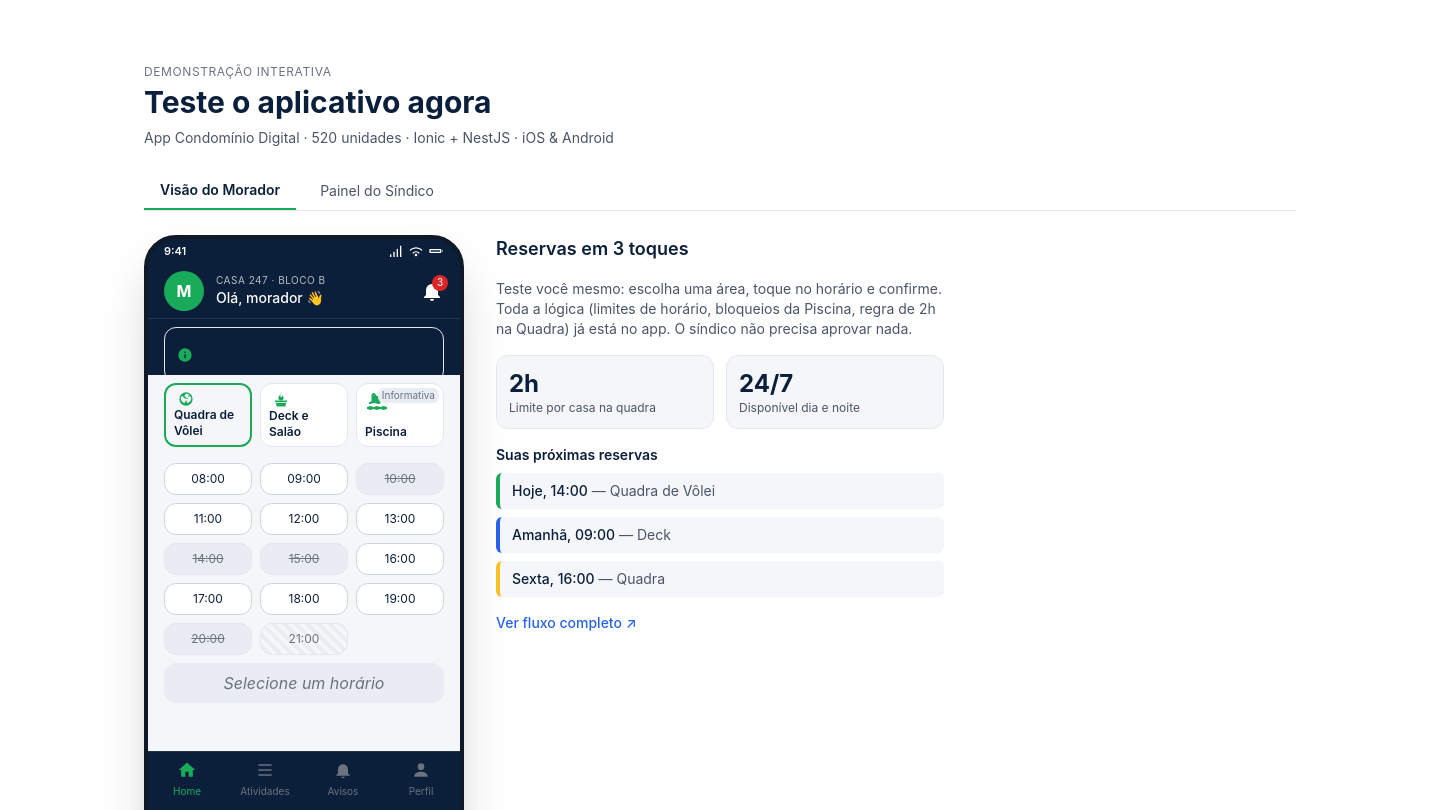
Test: DemoMorador — fluxo de reserva › confirmar uma reserva marca o slot como ocupado (disabled + line-through)
Step 1. Click the button "09:00" → x=304, y=479, box top-left (260, 463), bottom-right (348, 495)
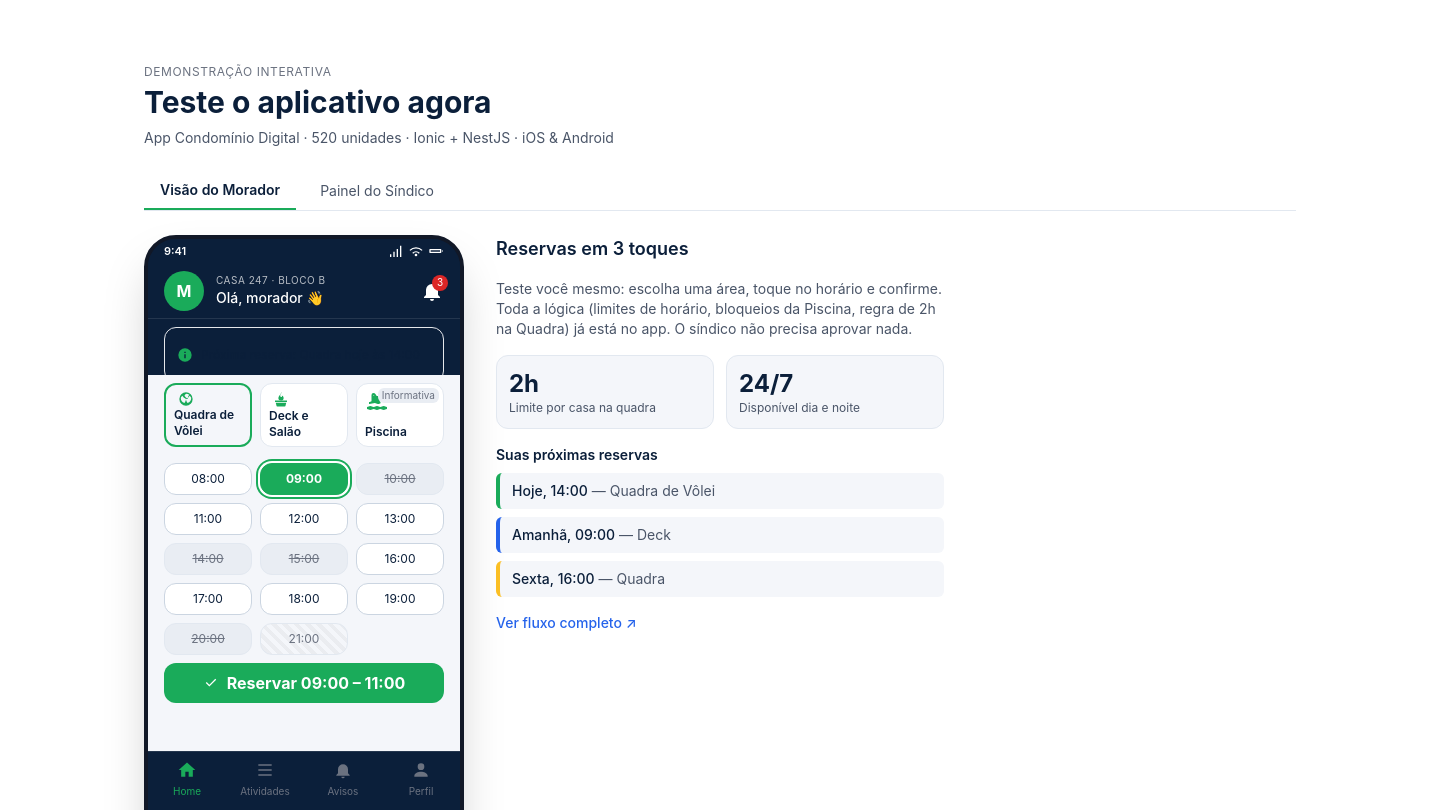
Step 2. Click the button "Reservar 09:00 – 11:00" → x=304, y=683, box top-left (164, 663), bottom-right (444, 703)
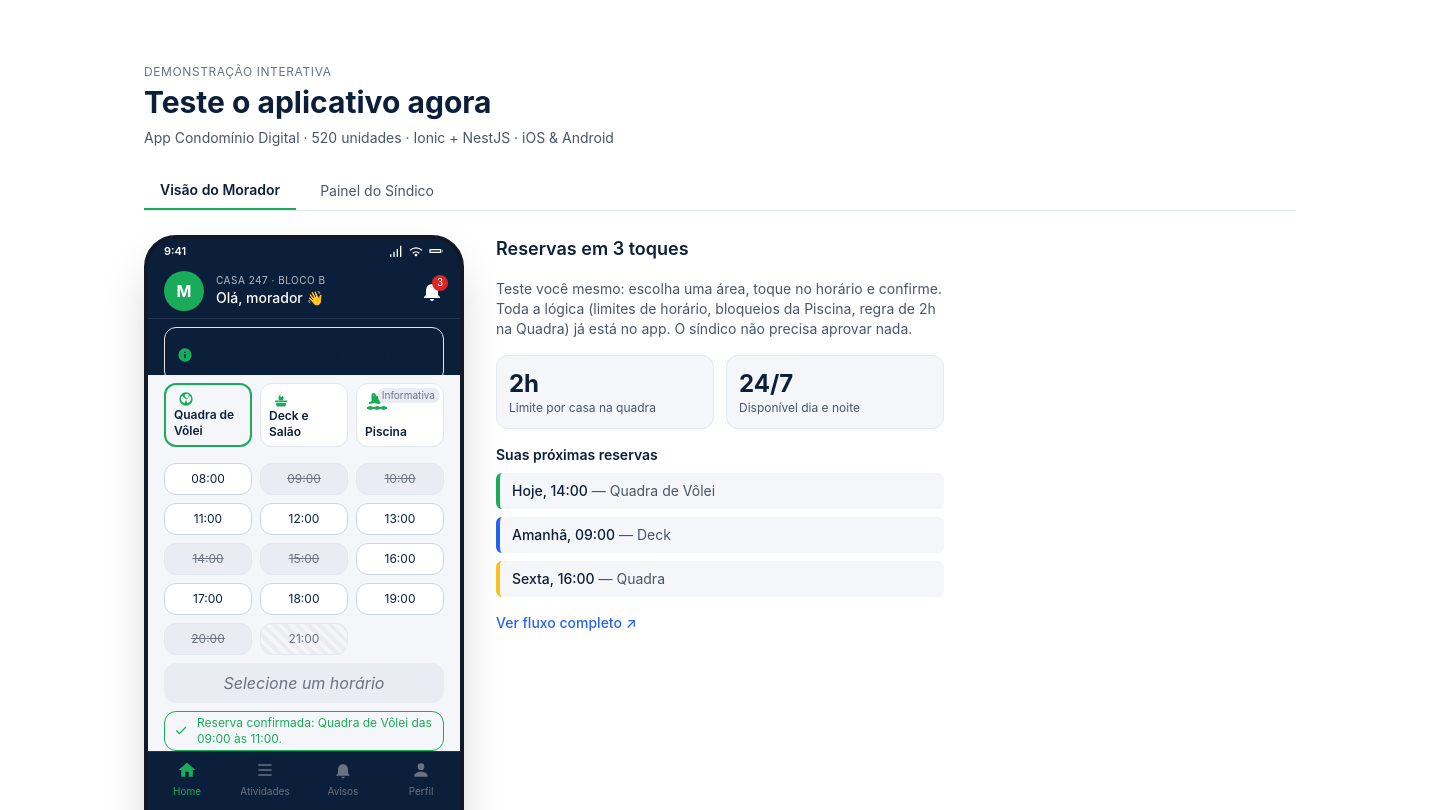
Now the button named "09:00 — ocupado" is disabled, box top-left (260, 463), bottom-right (348, 495)
Now the message reads "Reserva confirmada: Quadra de Vôlei das 09:00 às 11:00.", box top-left (164, 711), bottom-right (444, 751)
